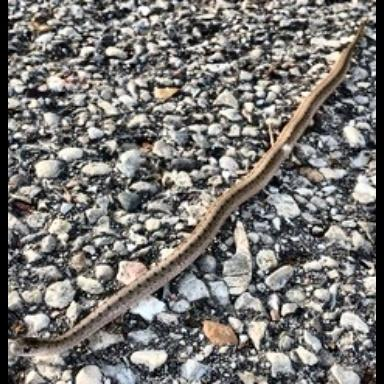snake: (10, 31, 367, 384)
